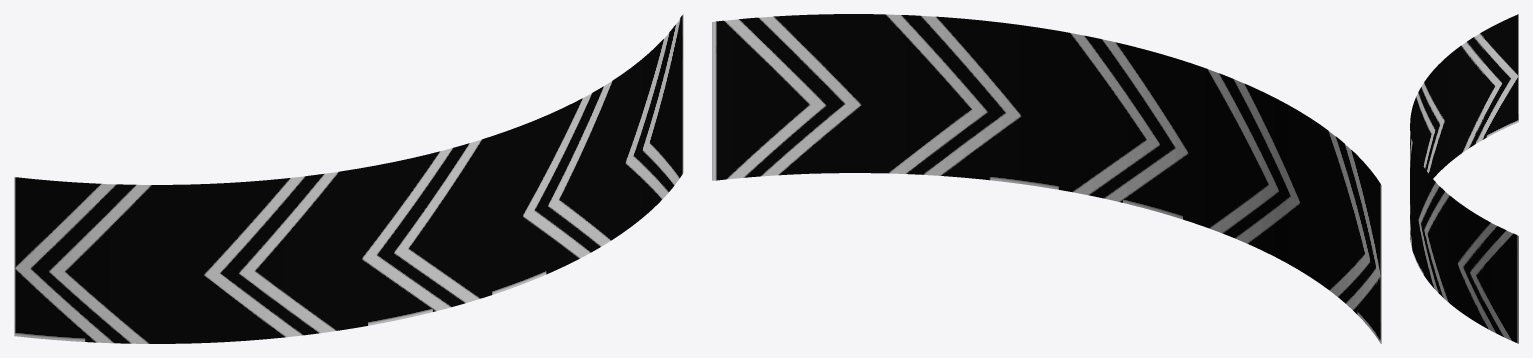
Rendered from Turn_L.fbx.
The picture shows the model from 3 angles, left to right: view 1: azimuth 30°, elevation 25°; view 2: azimuth 150°, elevation 25°; view 3: azimuth 270°, elevation 25°; orthographic projection. The views are drawn at different scales.
Visible parts, largest first — view 1: Plane.002; view 2: Plane.002; view 3: Plane.002.
Boxes of the visible parts, <box> form: Plane.002: <box>14,14,683,343</box>; Plane.002: <box>712,14,1381,343</box>; Plane.002: <box>1410,14,1518,343</box>.
Bounding box in the file's own units: 882 × 200 × 183.
